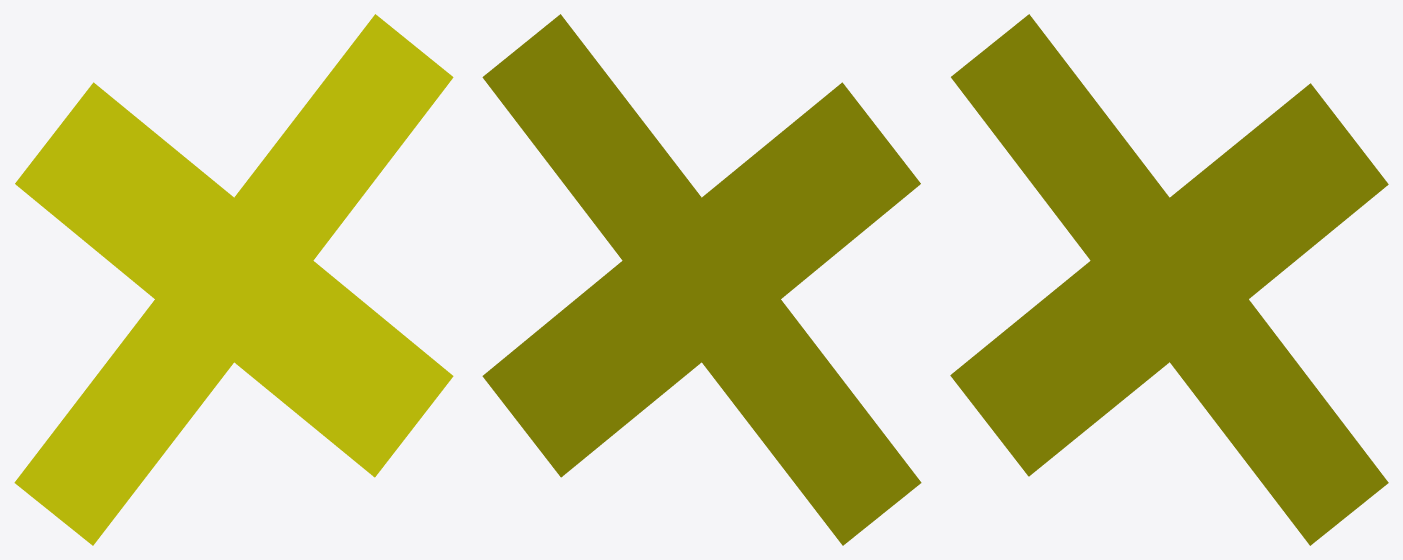
Rendered from operation_carp.glb.
3 views of the same model, side by side, from view 1: azimuth 30°, elevation 25°; view 2: azimuth 150°, elevation 25°; view 3: azimuth 330°, elevation 25° (orthographic).
Parts seen in each view (by area): view 1: Text.525; view 2: Text.525; view 3: Text.525.
Boxes of the visible parts, x1=… form: Text.525: x1=14, y1=14, x2=453, y2=545; Text.525: x1=482, y1=14, x2=921, y2=545; Text.525: x1=950, y1=14, x2=1388, y2=545.
Size of the model in its own units: 0.943 by 0.952 by 3.37e-06.
